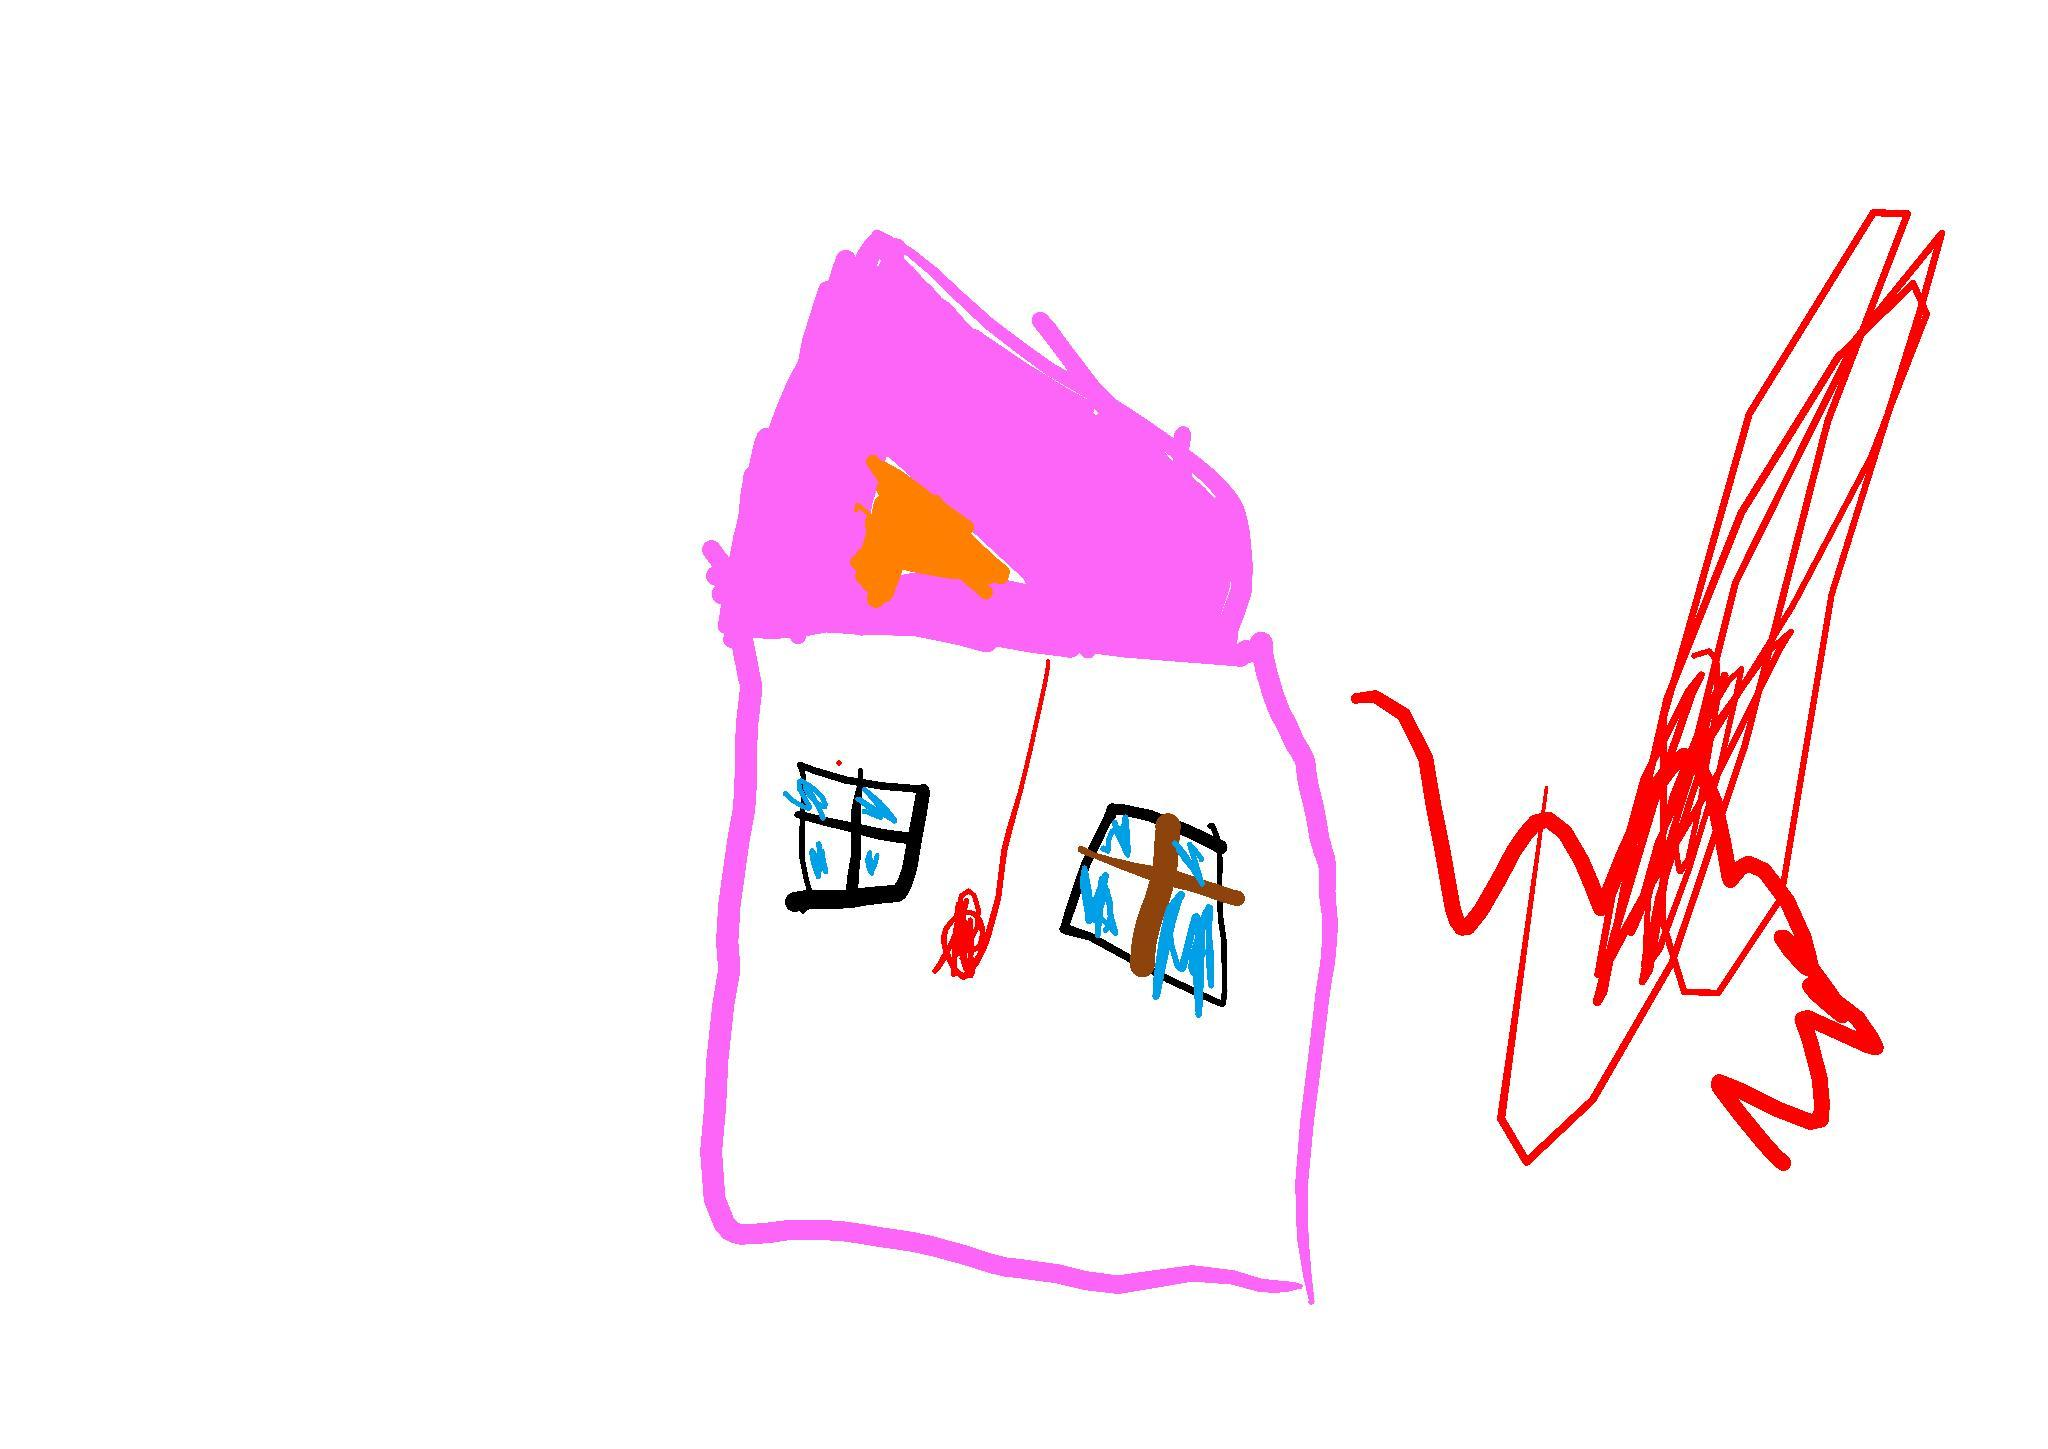house: (701, 231, 1338, 1295)
roof: (709, 231, 1253, 663)
wall: (706, 630, 1328, 1291)
window: (1051, 792, 1239, 1021), (783, 764, 928, 913)
